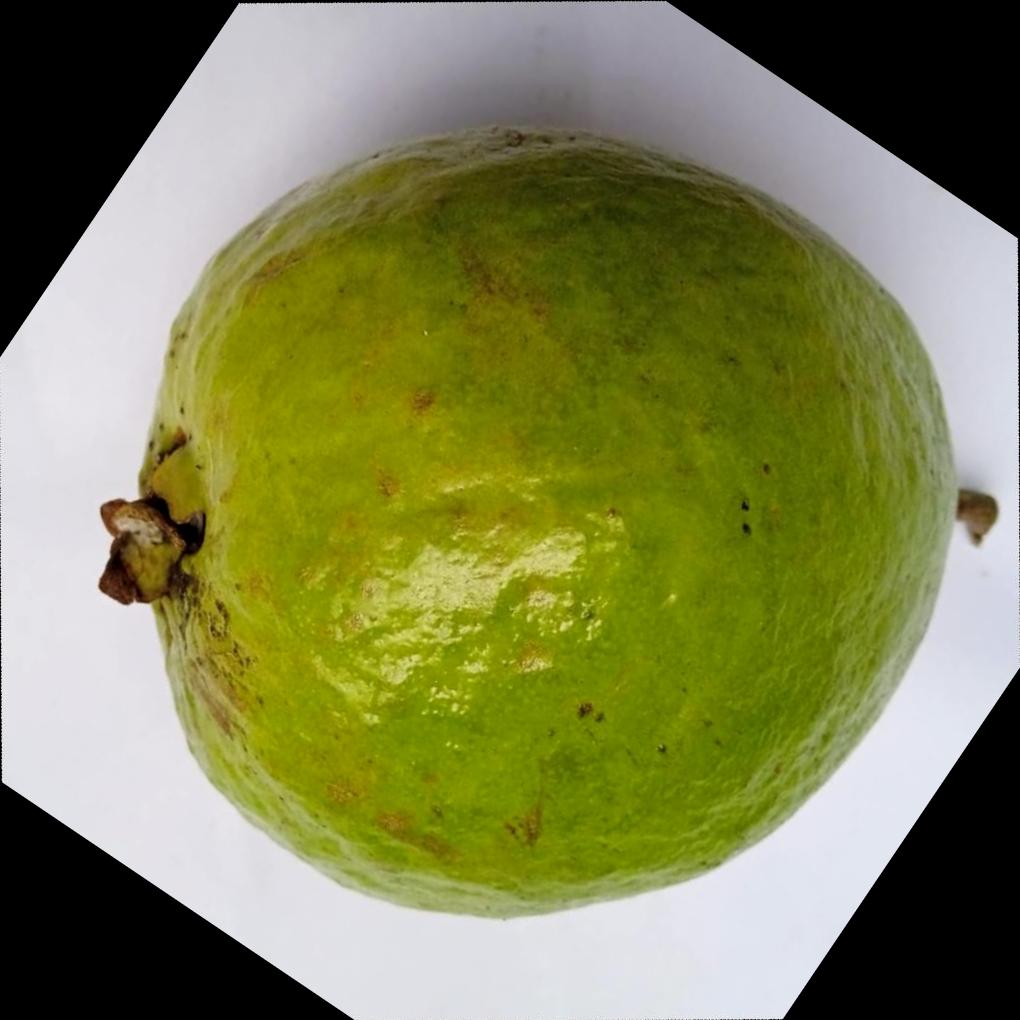FreshGuava: (97, 117, 965, 919)
